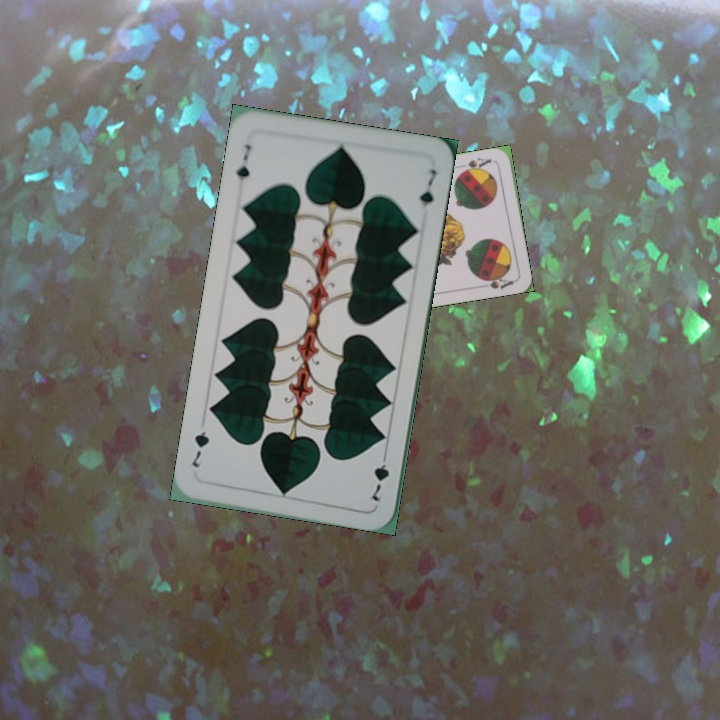G7: (367, 447, 392, 504), (232, 140, 254, 183)
SA: (457, 153, 494, 176)
